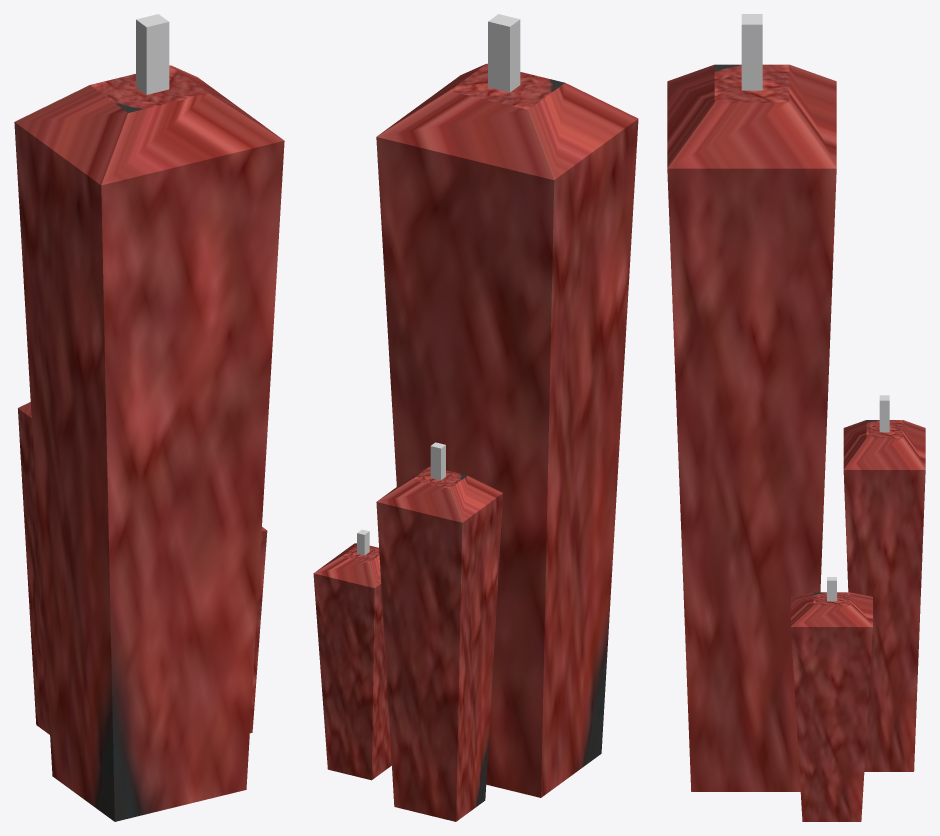
File: kysCandle.fbx
3 views of the same model, side by side, from view 1: azimuth 30°, elevation 25°; view 2: azimuth 150°, elevation 25°; view 3: azimuth 270°, elevation 25° (orthographic). The views are drawn at different scales.
Visible parts, largest first — view 1: Cube.003, Cube.002, Cube.005; view 2: Cube.003, Cube.002, Cube.005; view 3: Cube.003, Cube.002, Cube.005.
Boxes of the visible parts, x1,y1,x2,y2 form: Cube.003: [14, 14, 284, 821]; Cube.002: [18, 402, 49, 734]; Cube.005: [250, 527, 267, 733]; Cube.003: [376, 14, 638, 797]; Cube.002: [376, 442, 503, 821]; Cube.005: [313, 529, 391, 780]; Cube.003: [667, 14, 836, 791]; Cube.002: [843, 395, 925, 771]; Cube.005: [791, 577, 872, 821].
Size of the model in its own units: 13.08 by 41.47 by 13.07.
